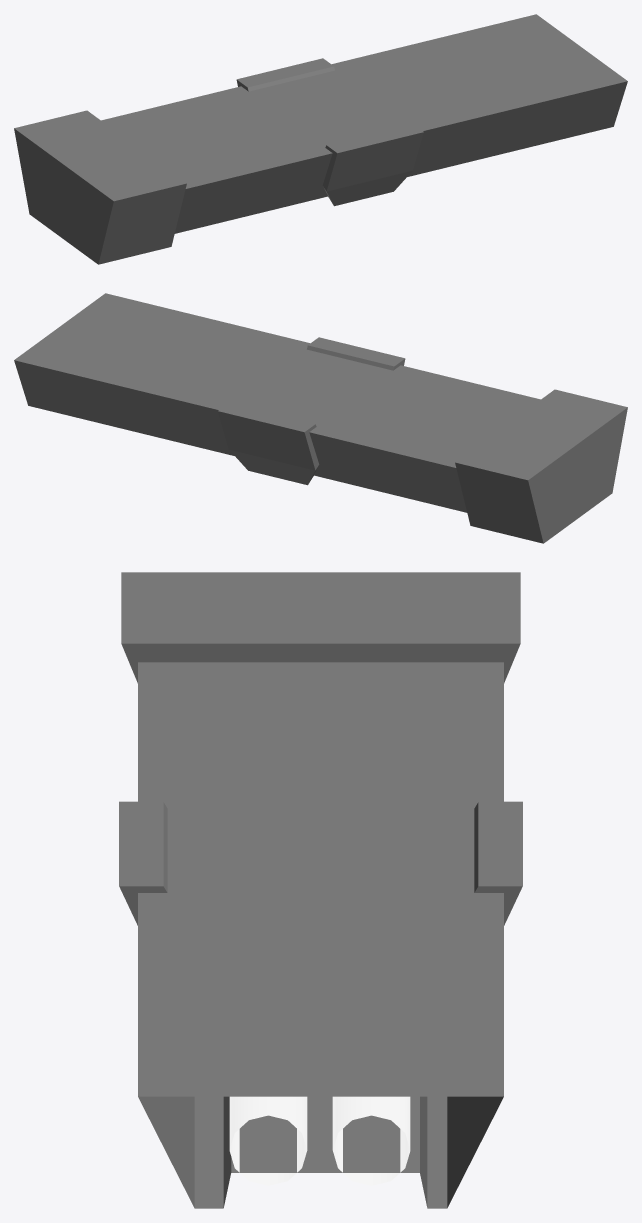
File: q-scifi-mod-prop-light-wide.glb
The picture shows the model from 3 angles, top to bottom: view 1: azimuth 30°, elevation 25°; view 2: azimuth 150°, elevation 25°; view 3: azimuth 270°, elevation 25°; orthographic projection. The views are drawn at different scales.
Parts seen in each view (by area): view 1: Prop_Light_Wide; view 2: Prop_Light_Wide; view 3: Prop_Light_Wide.
Part boxes in pixels (x1,y1,x2,y2): Prop_Light_Wide: [14, 14, 627, 264]; Prop_Light_Wide: [14, 293, 627, 543]; Prop_Light_Wide: [119, 572, 522, 1208].
Size of the model in its own units: 1.32 by 0.1819 by 0.4453.
2 materials, 1 textured.
